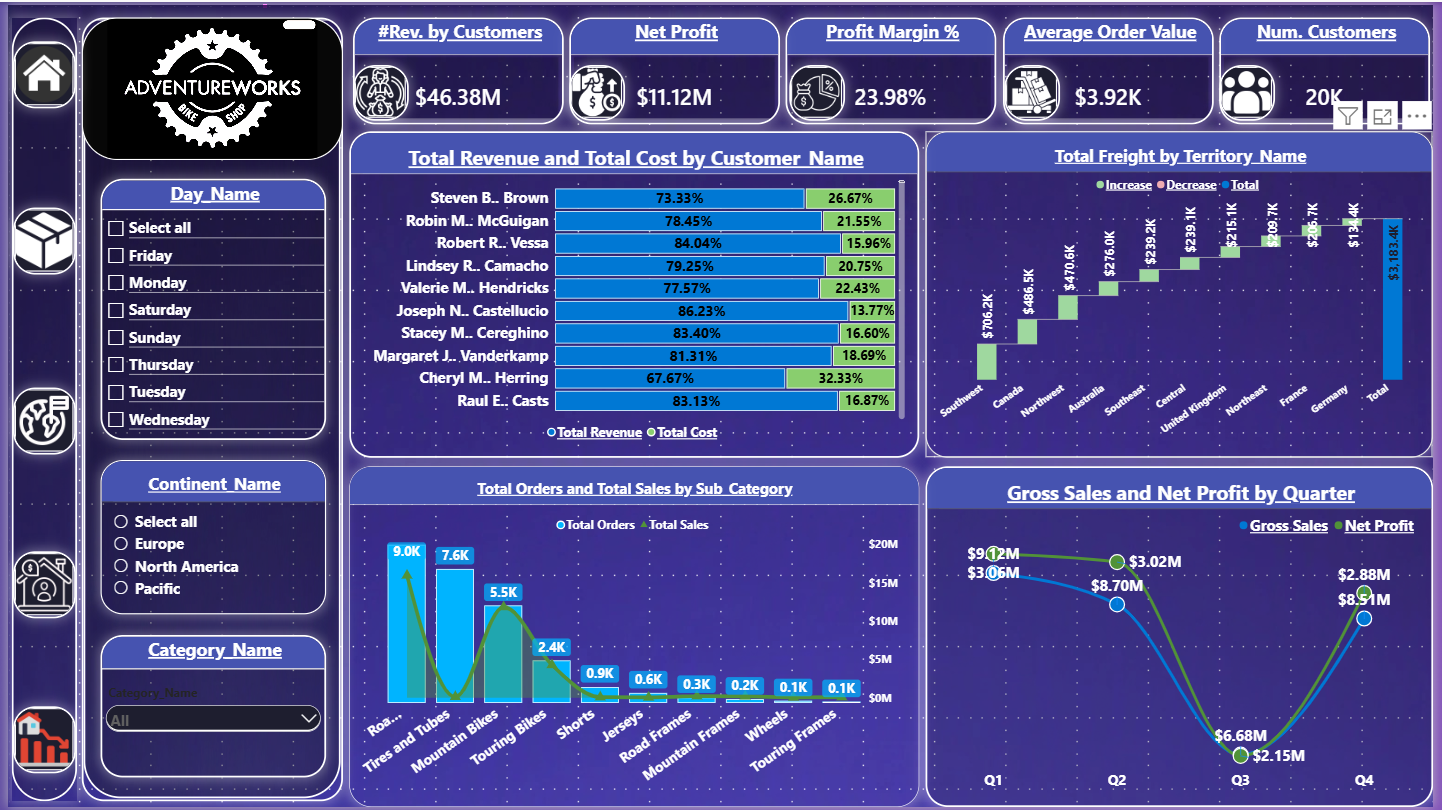

What the dashboard file says about the page in this screenshot:
{"tool":"powerbi","page":{"name":"Customers_Dashboard","canvas":[1920,1080],"ordinal":3},"visuals":[{"type":"cardVisual","fields":{"Data":["Measures_Table.Total Tax"]},"box":[3389.7,146.7,449.4,209.1],"z":0},{"type":"cardVisual","title":"#Rev. by Customers","fields":{"Data":["Measures_Table.Top Customers by Revenue"]},"box":[464,16,284,144],"z":1000},{"type":"cardVisual","title":"Profit Margin %","fields":{"Data":["Measures_Table.Profit Margin %"]},"box":[1048,16,284,144],"z":2000},{"type":"cardVisual","title":"Num. Customers","fields":{"Data":["Measures_Table.Total Customers"]},"box":[1632,16,284,144],"z":3000},{"type":"cardVisual","title":"Average Order Value","fields":{"Data":["Measures_Table.Average Order Value"]},"box":[1340,16,284,144],"z":4000},{"type":"cardVisual","title":"Net Profit","fields":{"Data":["Measures_Table.Net Profit"]},"box":[756,16,284,144],"z":5000},{"type":"image","box":[100,16,352,1056],"z":6000},{"type":"image","box":[100,16,352,192],"z":7000},{"type":"image","box":[5,16,88,1056],"z":8000},{"type":"slicer","title":"   Day_Name","fields":{"Values":["Dim_Date.Day_Name"]},"box":[125,234.7,304,352],"z":9000},{"type":"listSlicer","title":"Continent_Name","fields":{"Values":["Dim_SalesTerritory.Group"]},"box":[125,613.3,304,208],"z":10000},{"type":"slicer","title":"Category_Name","fields":{"Values":["Dim_Products.Category_Name"]},"box":[125,848,304,192],"z":11000},{"type":"waterfallChart","fields":{"Category":["Dim_SalesTerritory.Territory_Name"],"Y":["Measures_Table.Total Freight"]},"box":[1236,170,684,440],"z":12000},{"type":"hundredPercentStackedBarChart","title":"Total Revenue and Total Cost by Customer_Name","fields":{"Category":["Dim_Customers.Full_Name"],"Y":["Measures_Table.Total Revenue","Measures_Table.Total Cost"]},"box":[460,170,768,440],"z":13000},{"type":"areaChart","fields":{"Category":["Dim_Date.Quarter"],"Y":["Measures_Table.Gross Sales"],"Y2":["Measures_Table.Net Profit"]},"box":[1236,621,684,459],"z":14000},{"type":"lineStackedColumnComboChart","title":"Total Orders and Total Sales by Sub_Category","fields":{"Category":["Dim_Products.SubCategory_Name"],"Y":["Measures_Table.Total Orders"],"Y2":["Measures_Table.Total Sales"]},"box":[460,621,768,459],"z":15000},{"type":"image","box":[7,48,85,90],"z":16000},{"type":"image","box":[7,272,85,90],"z":17000},{"type":"image","box":[7,515,85,90],"z":18000},{"type":"image","box":[7,736,85,90],"z":19000},{"type":"image","box":[7,944,85,90],"z":20000},{"type":"image","box":[464,80,75,75],"z":21000},{"type":"image","box":[757,80,75,75],"z":22000},{"type":"image","box":[1052,80,75,75],"z":23000},{"type":"image","box":[1342,80,75,75],"z":24000},{"type":"image","box":[1632,80,75,75],"z":25000}]}

Visuals, with their boxes in screenshot pixels (x1, y1, x2, y2), scaled from the page's 1920x1080 canvas onto the 1442x810 screenshot:
"#Rev. by Customers" cardVisual: 348 12 562 120
"Profit Margin %" cardVisual: 787 12 1000 120
"Num. Customers" cardVisual: 1226 12 1439 120
"Average Order Value" cardVisual: 1006 12 1220 120
"Net Profit" cardVisual: 568 12 781 120
image: 75 12 339 804
image: 75 12 339 156
image: 4 12 70 804
"   Day_Name" slicer: 94 176 322 440
"Continent_Name" listSlicer: 94 460 322 616
"Category_Name" slicer: 94 636 322 780
waterfallChart - Dim_SalesTerritory.Territory_Name x Measures_Table.Total Freight: 928 128 1441 458
"Total Revenue and Total Cost by Customer_Name" hundredPercentStackedBarChart: 345 128 922 458
areaChart - Dim_Date.Quarter x Measures_Table.Gross Sales: 928 466 1441 809
"Total Orders and Total Sales by Sub_Category" lineStackedColumnComboChart: 345 466 922 809
image: 5 36 69 104
image: 5 204 69 272
image: 5 386 69 454
image: 5 552 69 620
image: 5 708 69 776
image: 348 60 405 116
image: 569 60 625 116
image: 790 60 846 116
image: 1008 60 1064 116
image: 1226 60 1282 116
